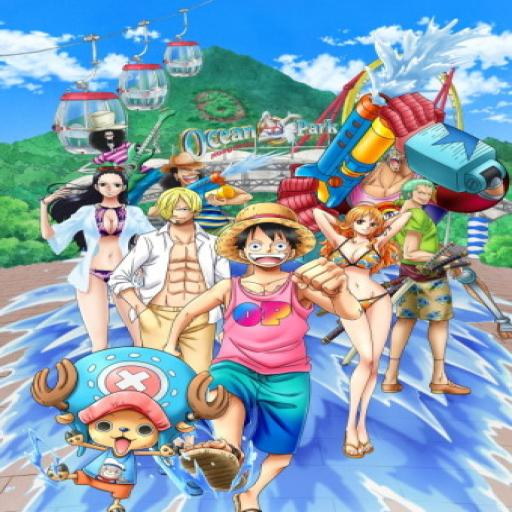Luffy: (200, 194, 328, 273)
Nami: (337, 204, 393, 244)
NicoRobin: (76, 164, 138, 208)
Usopp: (163, 148, 213, 189)
Zoro: (394, 177, 450, 209)
sanji: (151, 186, 209, 231)
